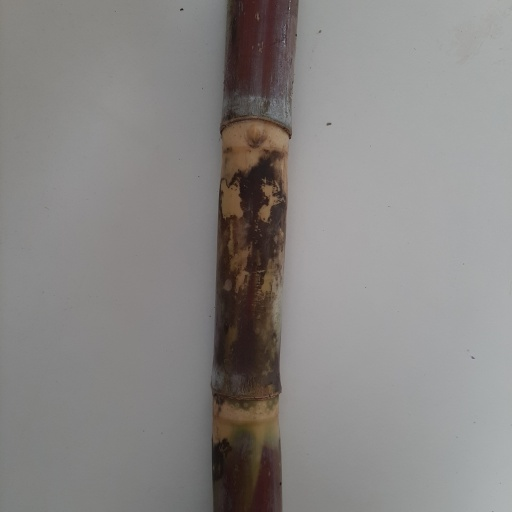Bud: (244, 121, 270, 149)
